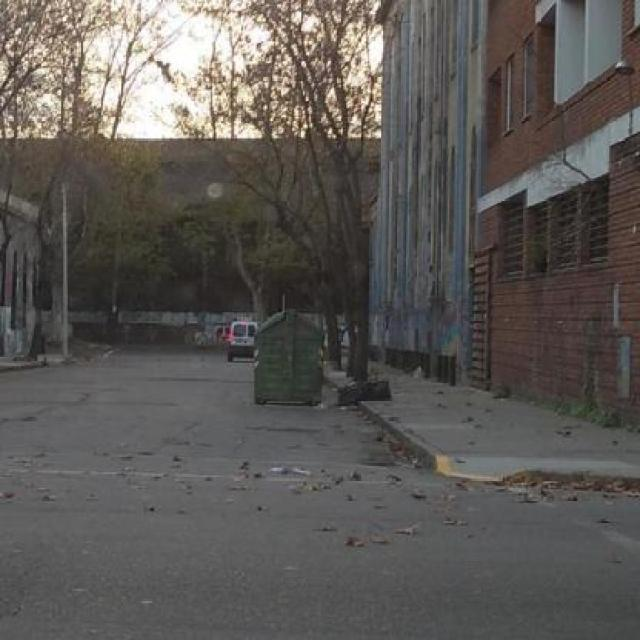garbage: (330, 375, 393, 402)
